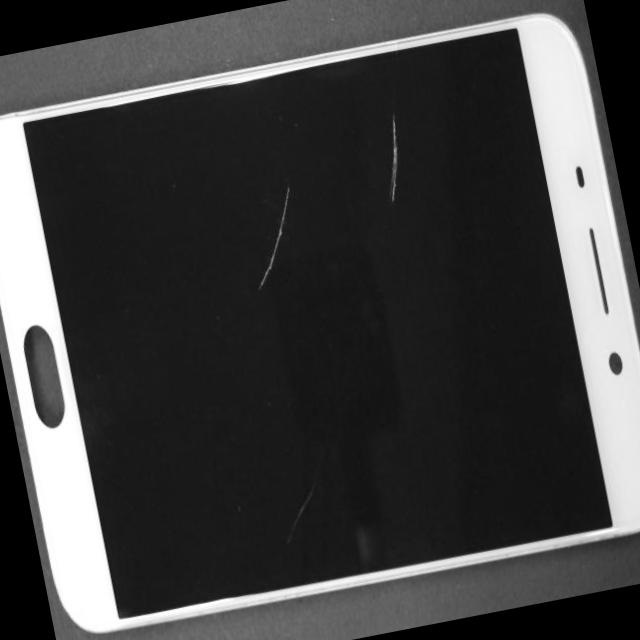scratch: (237, 184, 310, 294), (264, 487, 328, 569), (377, 116, 412, 202)
